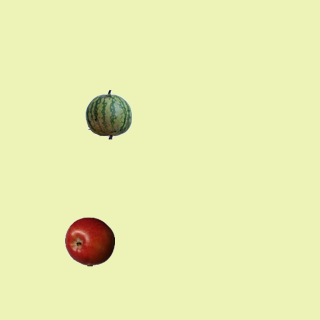Apple Braeburn: (64, 216, 114, 266)
Watermelon: (83, 89, 133, 139)
